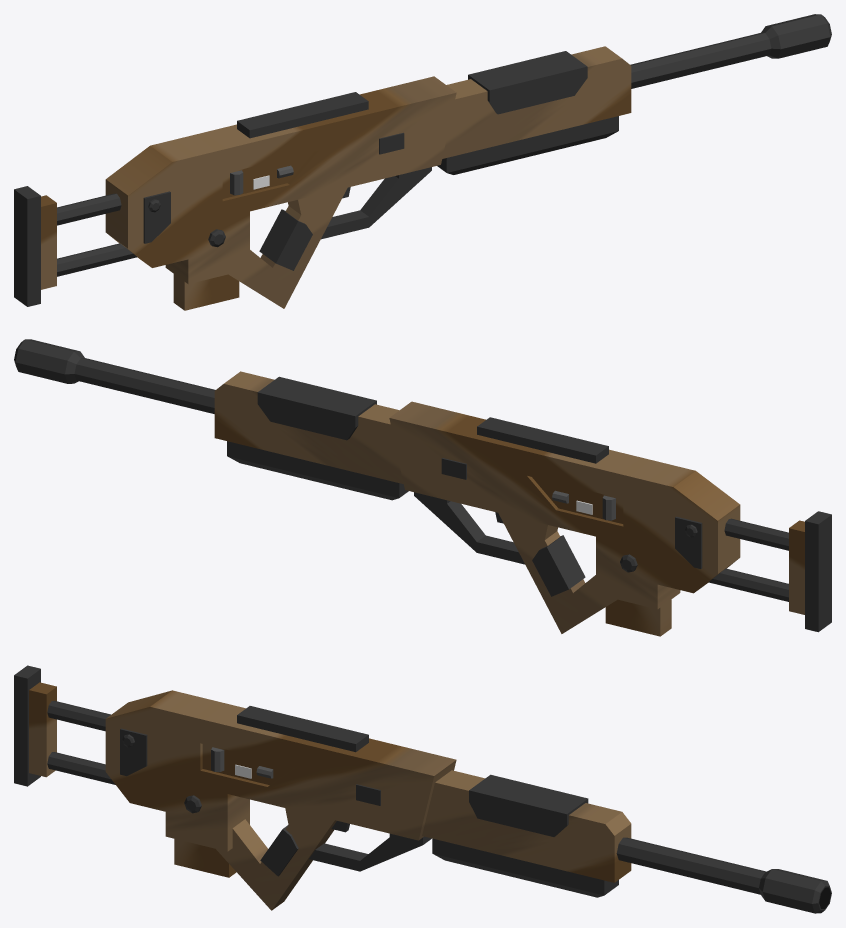
Rendered from Rifle_Sniper_C_V3.FBX.
3 renders of one model, top to bottom at view 1: azimuth 30°, elevation 25°; view 2: azimuth 150°, elevation 25°; view 3: azimuth 330°, elevation 25°, orthographic.
Visible parts, largest first — view 1: Rifle_Sniper_C_V3, Magazine; view 2: Rifle_Sniper_C_V3, Magazine; view 3: Rifle_Sniper_C_V3, Magazine.
Boxes of the visible parts, bbox=[...] form: Rifle_Sniper_C_V3: bbox=[14, 14, 831, 308]; Magazine: bbox=[173, 274, 239, 310]; Rifle_Sniper_C_V3: bbox=[14, 339, 831, 633]; Magazine: bbox=[605, 599, 671, 636]; Rifle_Sniper_C_V3: bbox=[14, 665, 831, 913]; Magazine: bbox=[174, 839, 236, 877].
Size of the model in its own units: 414 by 92.07 by 25.59.
